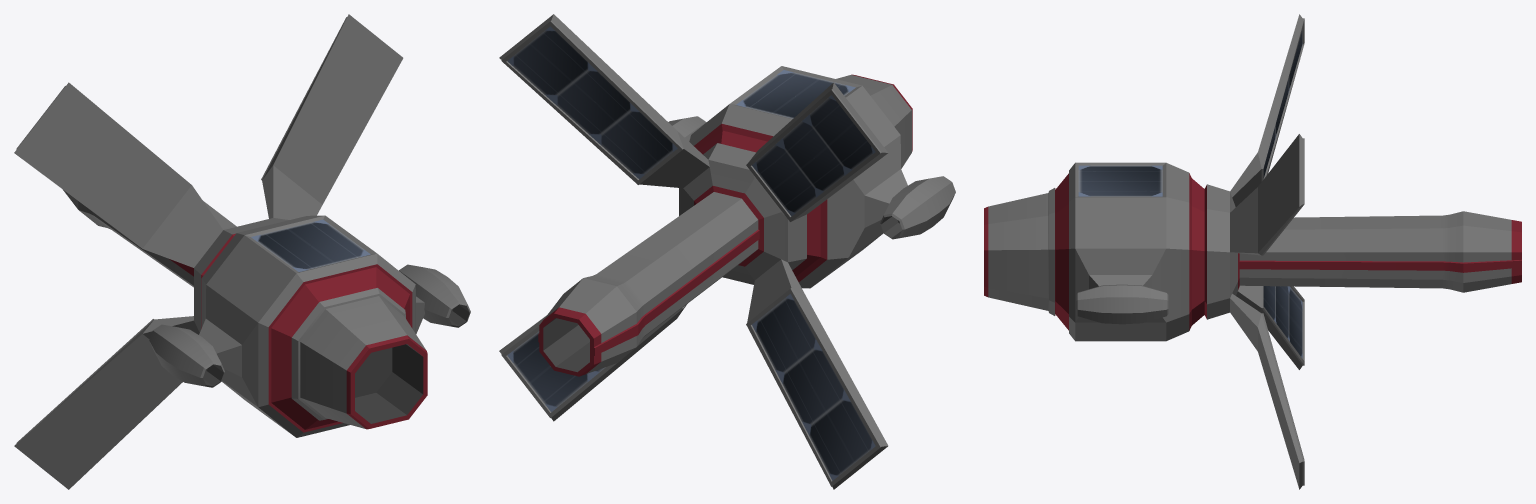
Rendered from SatelliteLaser.fbx.
3 renders of one model, left to right at view 1: azimuth 30°, elevation 25°; view 2: azimuth 150°, elevation 25°; view 3: azimuth 270°, elevation 25°, orthographic. The views are drawn at different scales.
Parts seen in each view (by area): view 1: SatteliteLaser; view 2: SatteliteLaser; view 3: SatteliteLaser.
Part boxes in pixels (x1,y1,x2,y2): SatteliteLaser: (14, 14, 470, 489); SatteliteLaser: (499, 14, 955, 489); SatteliteLaser: (984, 14, 1521, 489).
Size of the model in its own units: 0.0732 by 0.0732 by 0.1001.
